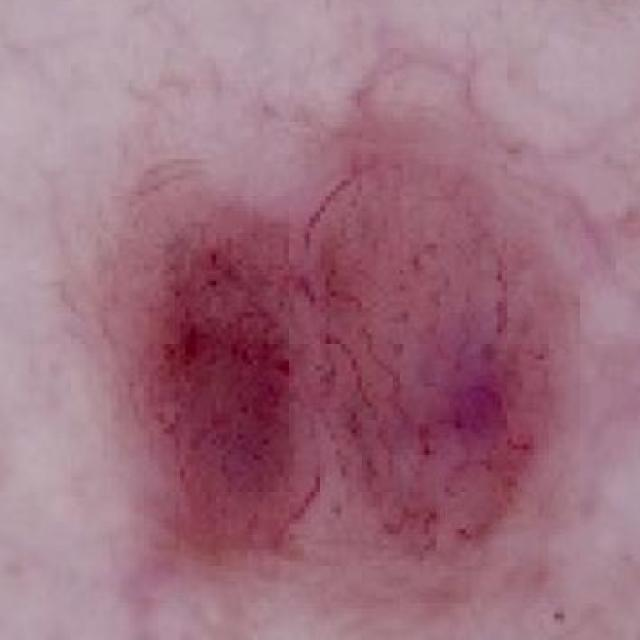BCC: (98, 18, 640, 640)
